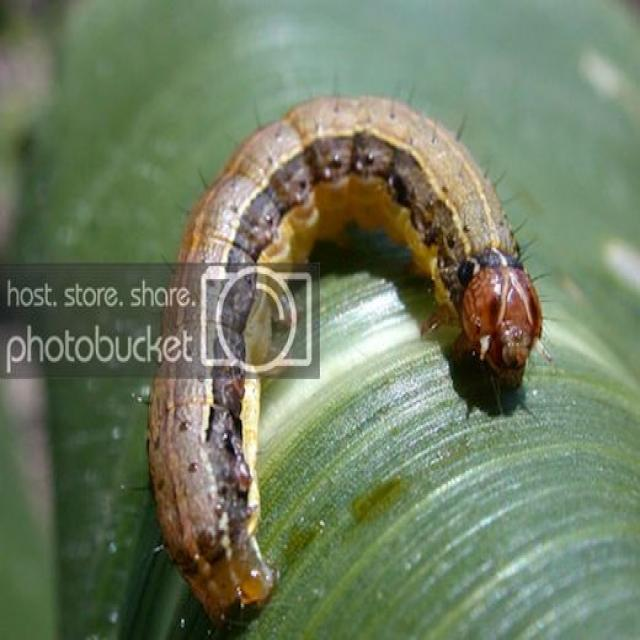worm: (144, 90, 554, 631)
